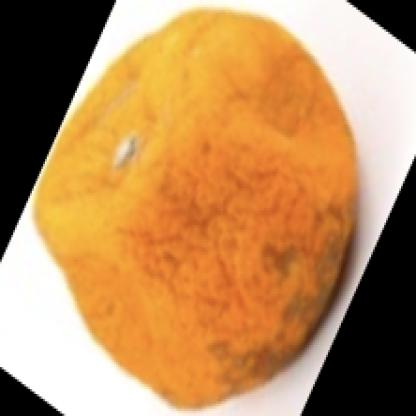rotten: (35, 9, 360, 406)
